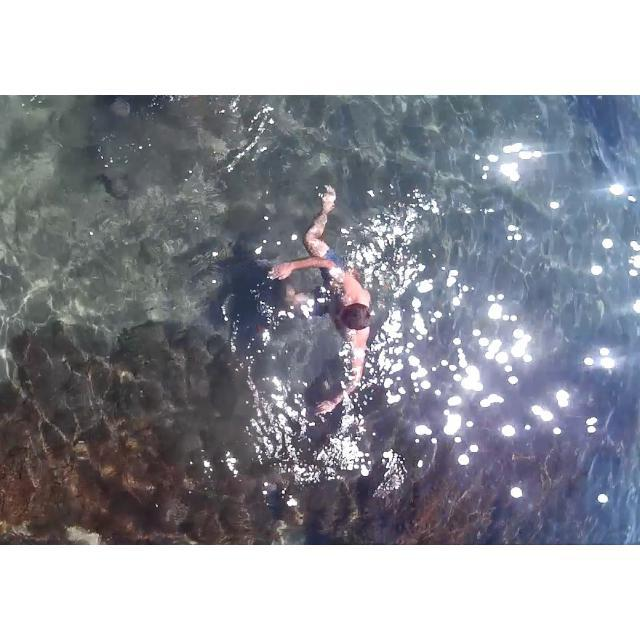human: (276, 221, 402, 407), (143, 95, 267, 97)
